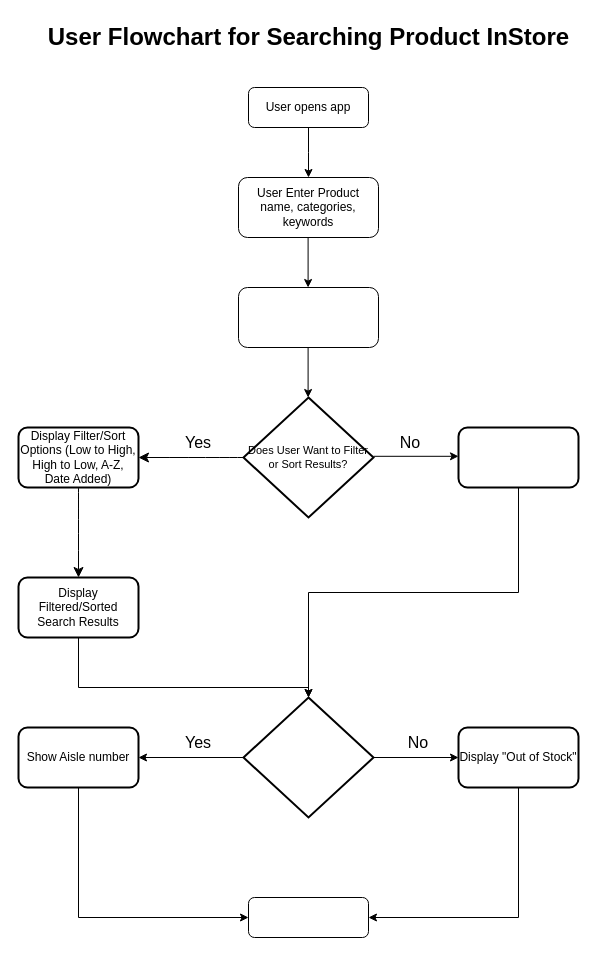
This 596x955 diagram has some shape labels left out. Here are the shapes that lost their labels. From the top down, the centre of each, then its label:
At (308,317): "System Fetches Items Based on Search Criteria (categories, Keywords)".
At (518,457): "Display Search Results".
At (308,757): "Is Product Available in the Store?".
At (308,917): "End".
